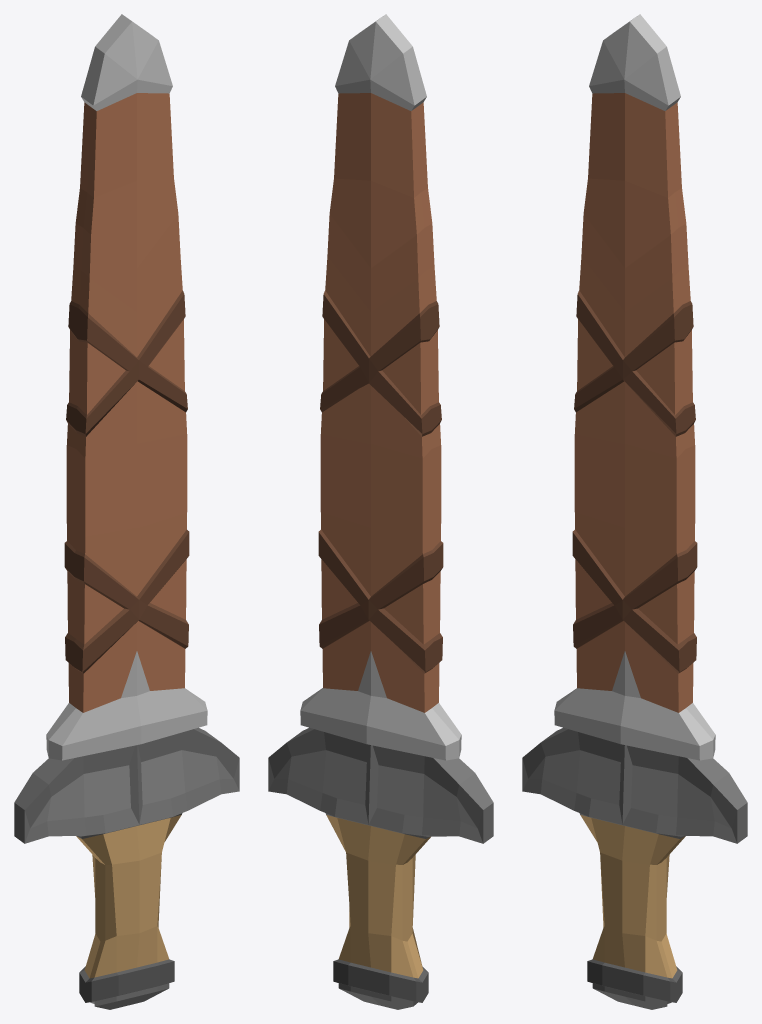
Rendered from SwordScabbard.fbx.
3 views of the same model, side by side, from view 1: azimuth 30°, elevation 25°; view 2: azimuth 150°, elevation 25°; view 3: azimuth 330°, elevation 25° (orthographic).
Visible parts, largest first — view 1: SwordScabbard; view 2: SwordScabbard; view 3: SwordScabbard.
Part boxes in pixels (x1,y1,x2,y2): SwordScabbard: [14, 14, 239, 1009]; SwordScabbard: [268, 14, 493, 1009]; SwordScabbard: [522, 14, 747, 1009].
Size of the model in its own units: 18.84 by 82.74 by 4.32.
1 material, 1 textured.
